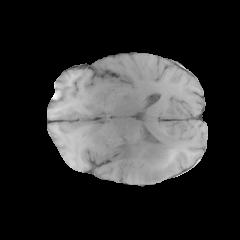glioma: (112, 134, 181, 183)
